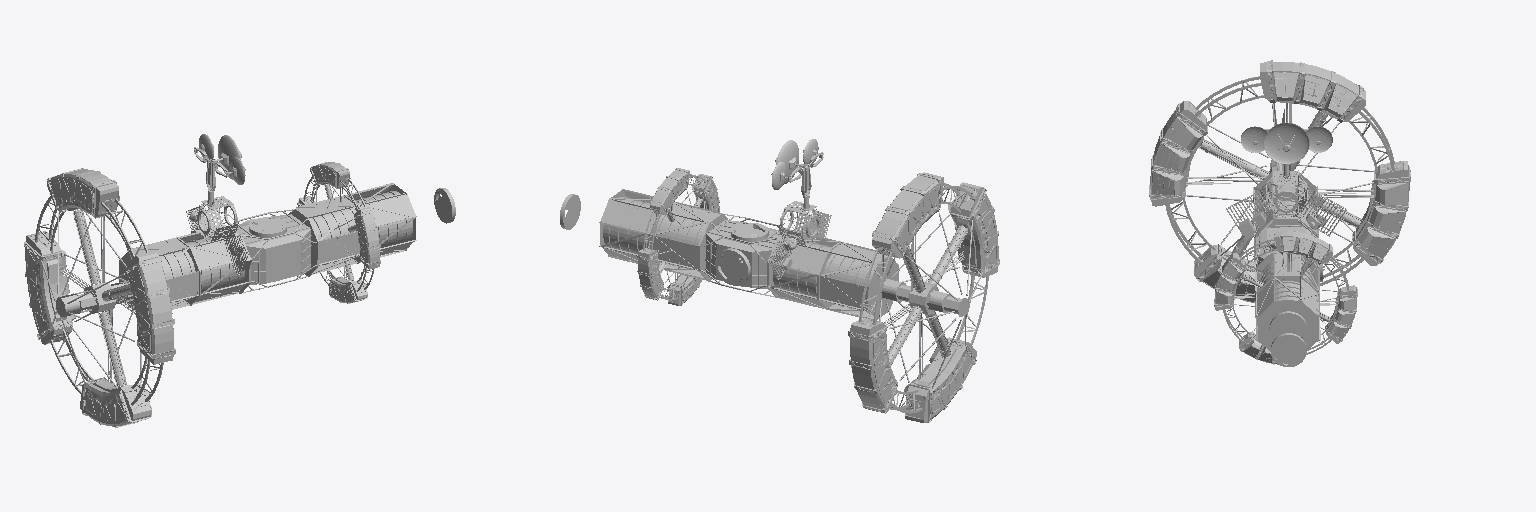
The model's file is meshed.obj.
The picture shows the model from 3 angles: view 1: azimuth 30°, elevation 25°; view 2: azimuth 150°, elevation 25°; view 3: azimuth 270°, elevation 25°; orthographic projection.
Visible parts, largest first — view 1: wheel, 10, wheel.001, dish; view 2: wheel, 10, wheel.001, dish; view 3: wheel, 10, wheel.001, dish.
Part boxes in pixels (x1,y1,x2,y2): wheel: (24, 168, 175, 427); 10: (119, 183, 455, 309); wheel.001: (297, 162, 380, 303); dish: (186, 134, 251, 274); wheel: (848, 172, 999, 422); 10: (560, 189, 898, 319); wheel.001: (637, 168, 719, 305); dish: (768, 139, 831, 279); wheel: (1149, 60, 1410, 302); 10: (1253, 170, 1324, 366); wheel.001: (1214, 230, 1357, 364); dish: (1226, 123, 1346, 239).
Size of the model in its own units: 125 by 75.02 by 72.65.